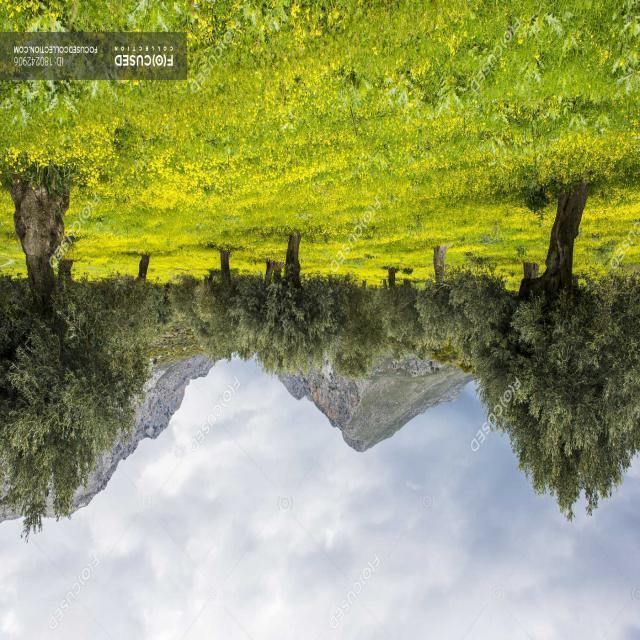tree: (468, 184, 640, 520), (0, 177, 160, 538), (262, 232, 330, 368), (172, 246, 254, 356), (125, 253, 177, 363), (326, 276, 378, 378), (417, 248, 467, 344), (380, 266, 420, 358)
